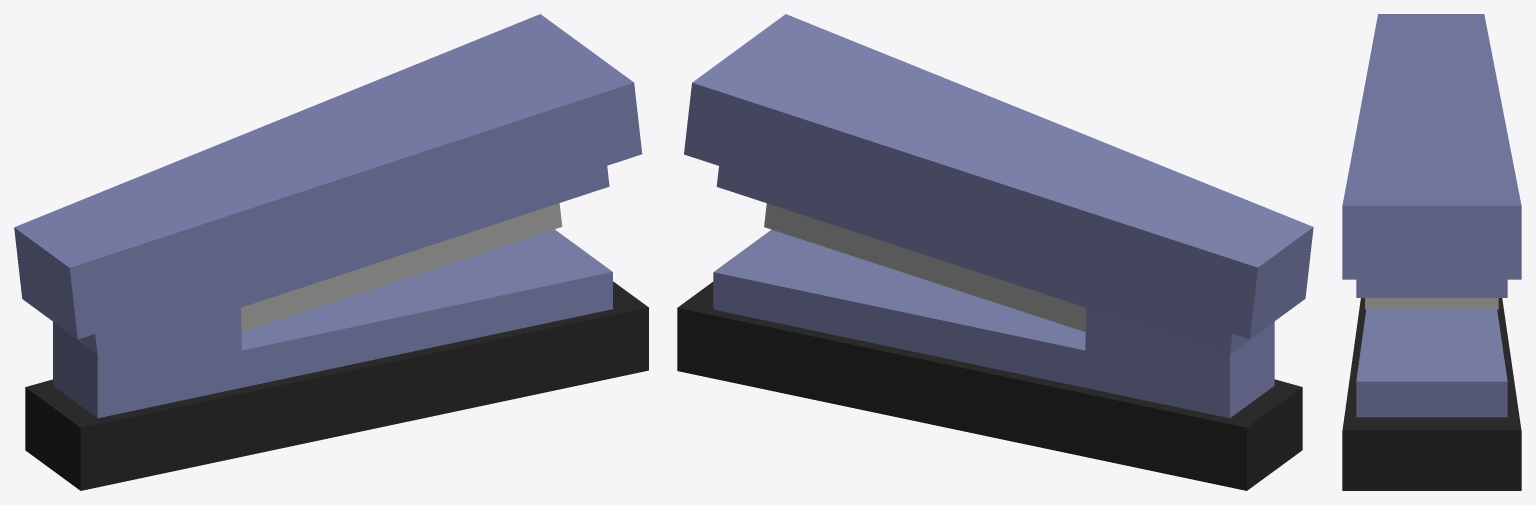
File: Stapler.fbx
3 renders of one model, left to right at view 1: azimuth 30°, elevation 25°; view 2: azimuth 150°, elevation 25°; view 3: azimuth 270°, elevation 25°, orthographic. The views are drawn at different scales.
Parts seen in each view (by area): view 1: Cube.230; view 2: Cube.230; view 3: Cube.230.
Boxes of the visible parts, left/top/right/bottom form: Cube.230: left=14, top=14, right=648, bottom=490; Cube.230: left=677, top=14, right=1313, bottom=490; Cube.230: left=1342, top=14, right=1521, bottom=490.
Size of the model in its own units: 204 by 101 by 58.97.
